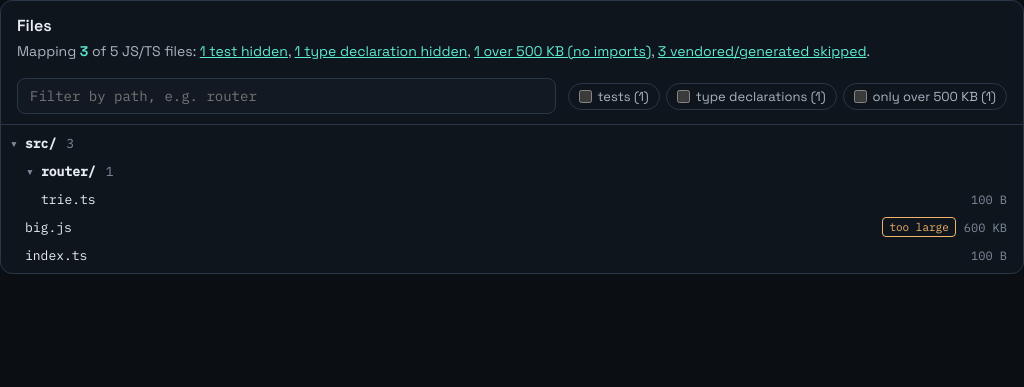
Scenario: FileInventory › lists skipped files on demand
Click the button "3 vendored/generated skipped". click: (762, 51)
box: [658,40,867,62]
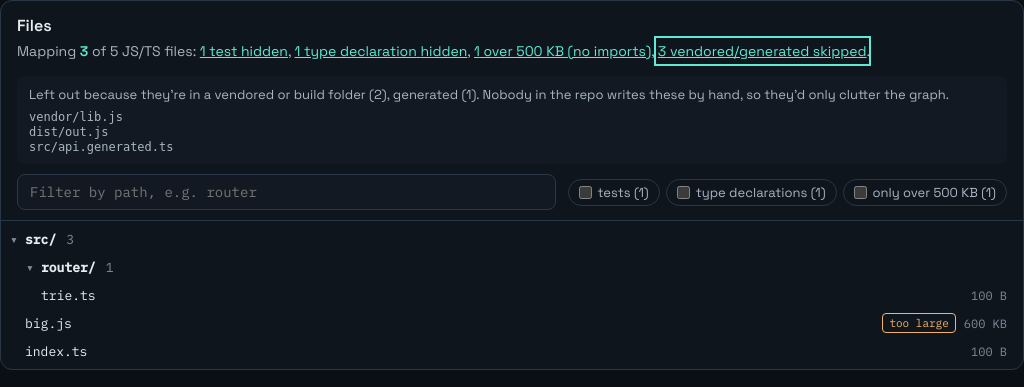
Now the text "vendor/lib.js" is shown, box [29,110,123,124]
Now the text "src/api.generated.ts" is shown, box [29,140,174,154]
